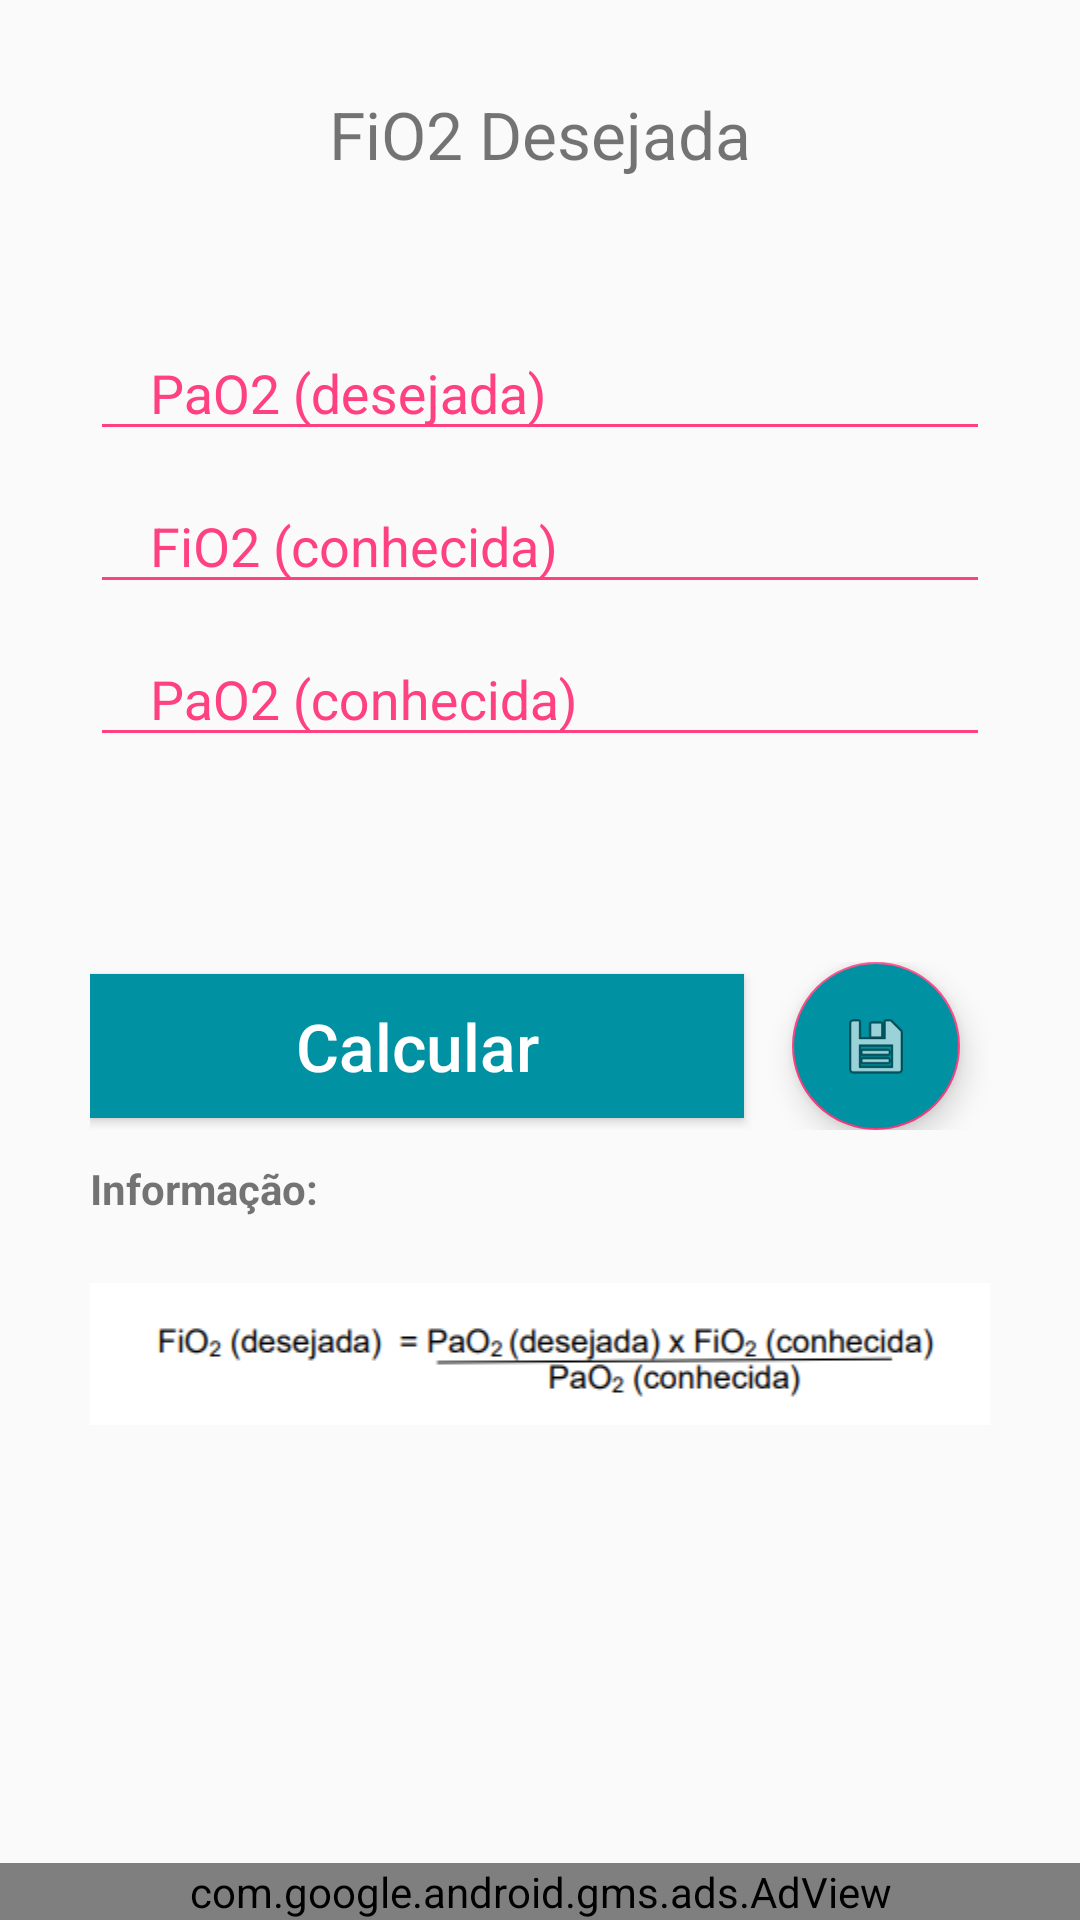

Screen size 1080×1920. Icon name, then its box in pixels as (x1=x1, y1=y1, x2=x2, y2=y2):
save: (x1=792, y1=962, x2=960, y2=1130)
